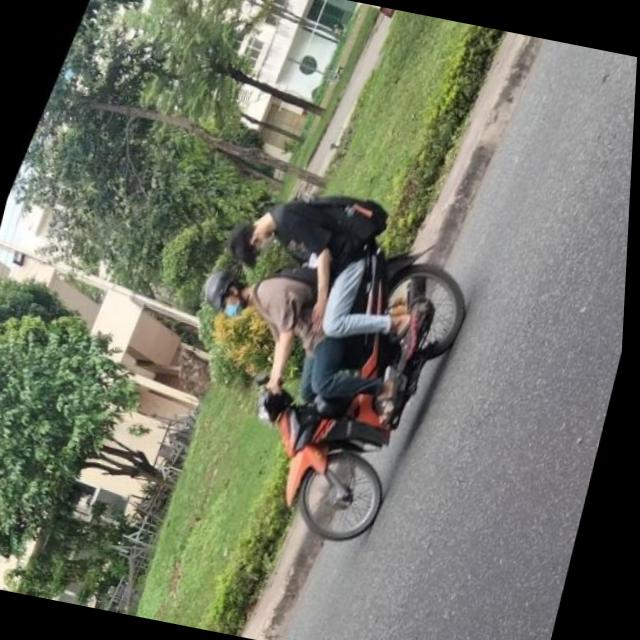WITH_HELMET: (200, 260, 245, 312)
